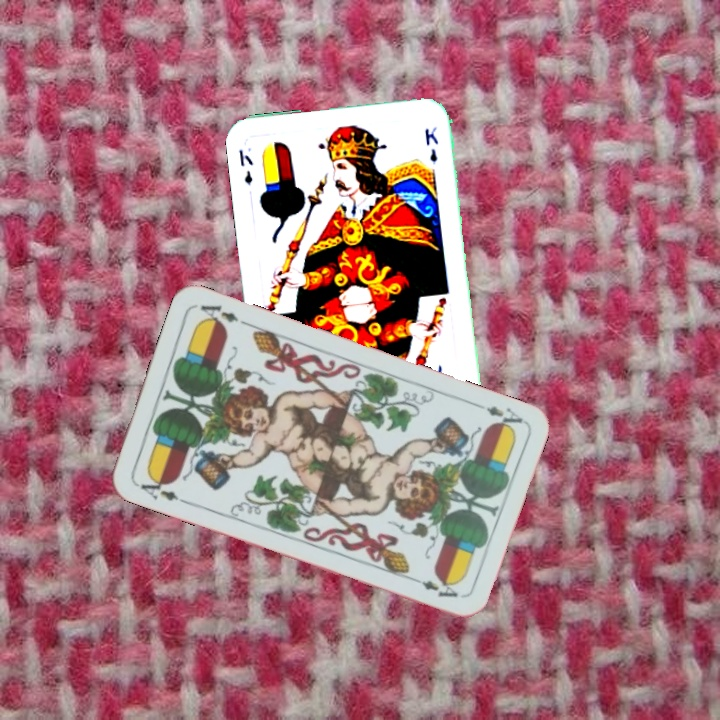EA: (469, 398, 525, 434), (132, 472, 189, 507)
EK: (234, 145, 256, 187)
